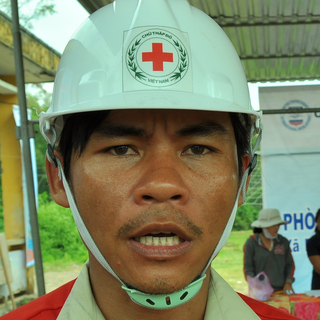eye: (97, 139, 144, 162), (178, 138, 223, 162)
